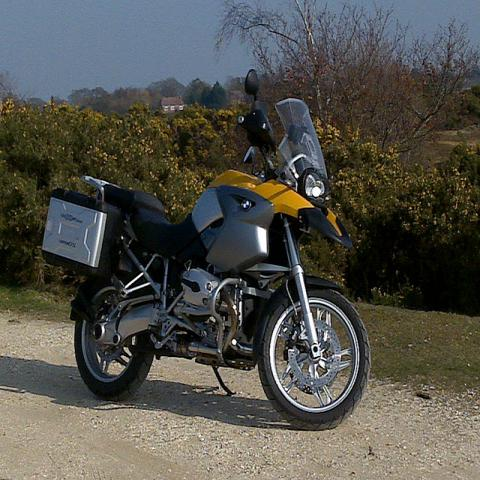motorcycle: (41, 68, 373, 428)
